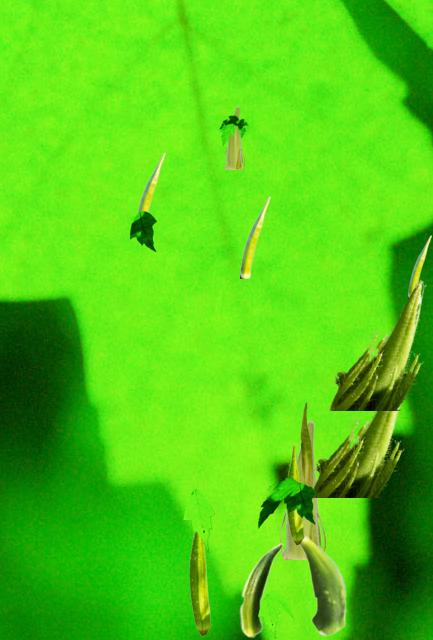okra: (329, 279, 425, 409), (313, 406, 406, 496), (279, 420, 324, 558), (299, 535, 346, 635), (239, 543, 282, 637), (240, 196, 269, 277), (189, 533, 210, 635), (286, 444, 303, 544), (137, 152, 164, 212), (408, 235, 430, 296), (223, 106, 243, 168), (300, 402, 312, 486)
